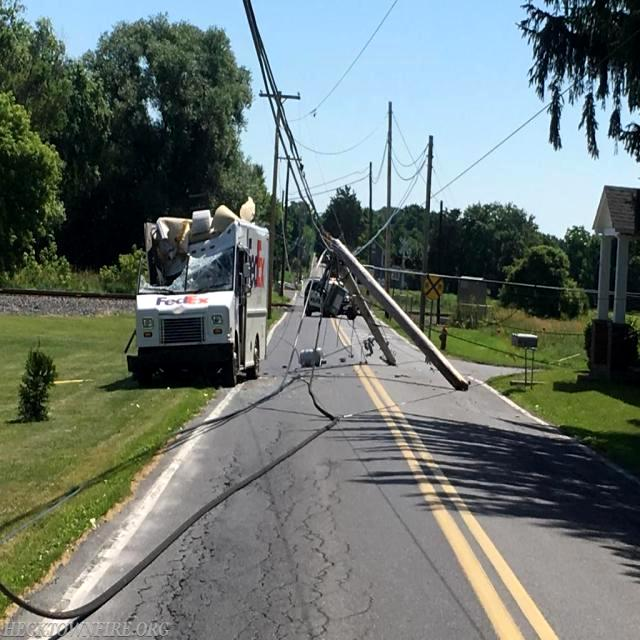Broken Pole: (331, 238, 470, 385)
